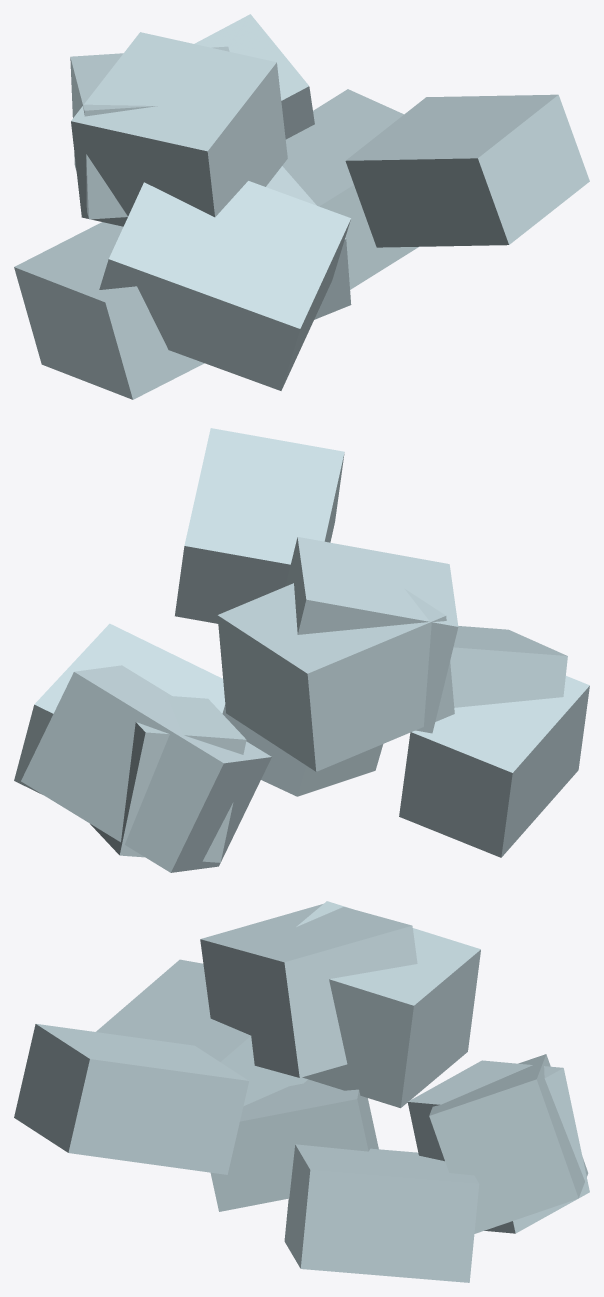
File: SM_Int_GlassClump.fbx
3 renders of one model, top to bottom at view 1: azimuth 30°, elevation 25°; view 2: azimuth 150°, elevation 25°; view 3: azimuth 270°, elevation 25°, orthographic.
Parts seen in each view (by area): view 1: SM_Int_GlassClump; view 2: SM_Int_GlassClump; view 3: SM_Int_GlassClump.
Boxes of the visible parts, x1,y1,x2,y2 form: SM_Int_GlassClump: [14, 14, 589, 399]; SM_Int_GlassClump: [14, 428, 589, 872]; SM_Int_GlassClump: [14, 901, 589, 1282].
Size of the model in its own units: 0.022 by 0.0197 by 0.0116.
